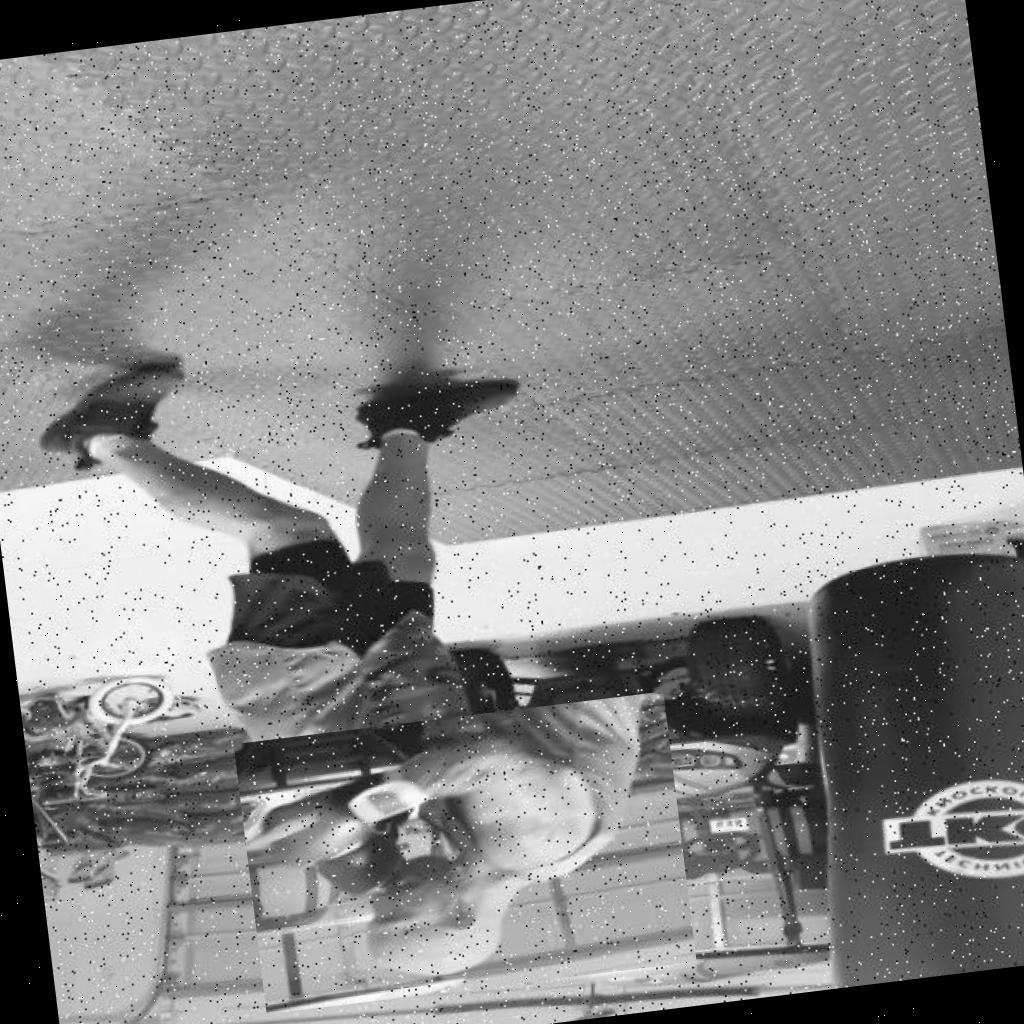bag: (765, 520, 1024, 990)
cross: (233, 691, 696, 1014)
